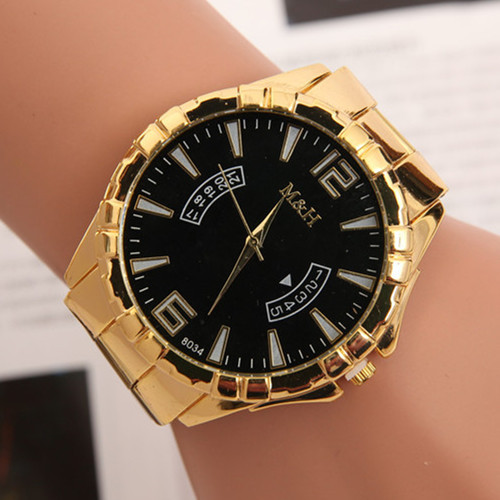clock: (118, 108, 390, 377)
